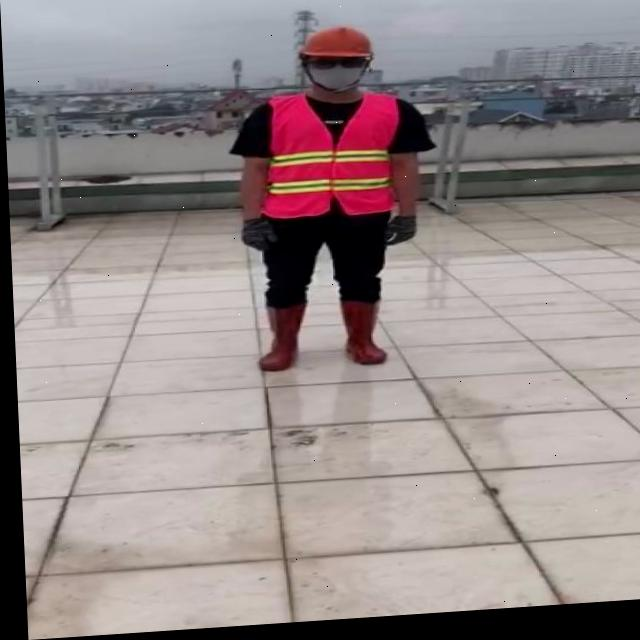Gloves: (239, 218, 277, 255), (382, 219, 416, 250)
Helmet: (297, 29, 375, 99)
Safety-Boot: (254, 304, 306, 375), (339, 301, 385, 371)
Safety-Vest: (256, 92, 403, 226)
